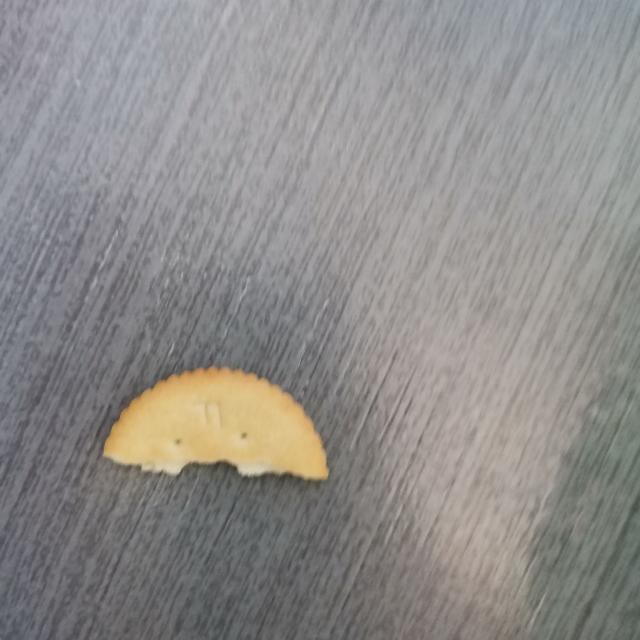Broken: (102, 364, 330, 481)
